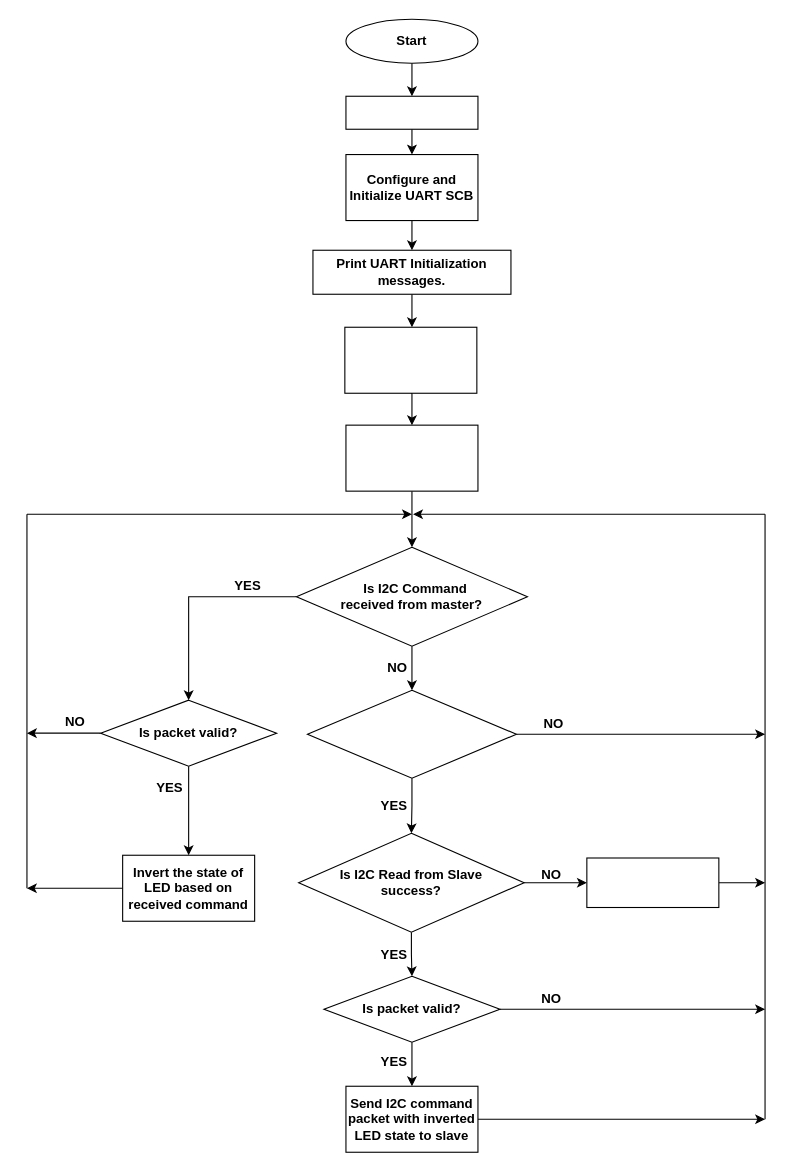
This 793x1172 diagram has some shape labels left out. Here are the shapes that lost their labels. From the top down, the centre of each, then its label:
At point (411, 112): "Device Initiailization".
At point (410, 359): "Initialize button interrupt and I2C SCB in master slave mode".
At point (411, 457): "Print UART message with the kits I2C slave address".
At point (411, 733): "Is Button Pressed by user?".
At point (652, 882): "I2C Error Message".
